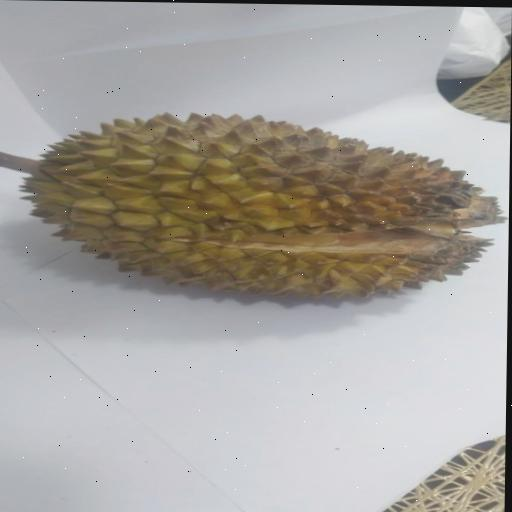rot: (0, 98, 511, 331)
